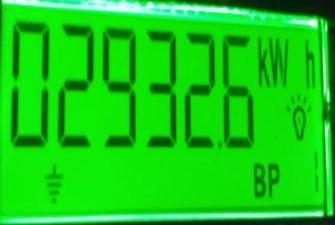.: (251, 36, 319, 93)
0: (218, 139, 223, 153)
1: (8, 16, 50, 151)
3: (56, 22, 97, 147), (184, 31, 217, 148)
4: (144, 28, 180, 150)
7: (221, 31, 258, 150)
:: (100, 24, 140, 148)
